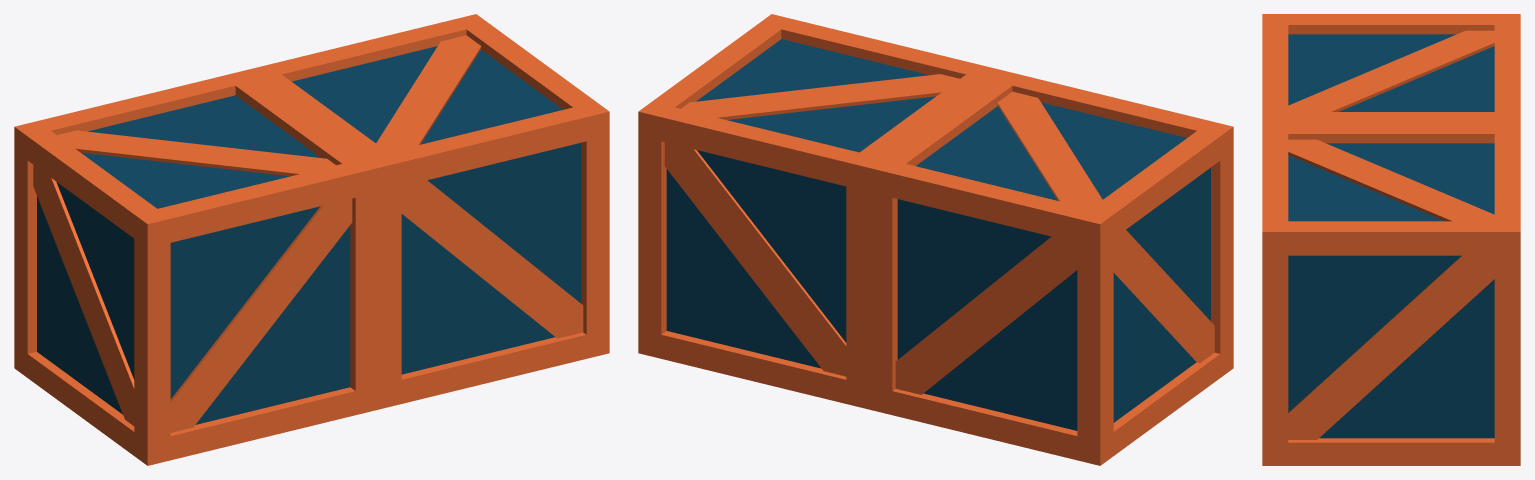
File: boxes_1.fbx
3 renders of one model, left to right at view 1: azimuth 30°, elevation 25°; view 2: azimuth 150°, elevation 25°; view 3: azimuth 270°, elevation 25°, orthographic. The views are drawn at different scales.
Visible parts, largest first — view 1: boxes_1; view 2: boxes_1; view 3: boxes_1.
Part boxes in pixels (left/top/right/bottom): boxes_1: left=14, top=14, right=609, bottom=465; boxes_1: left=638, top=14, right=1233, bottom=465; boxes_1: left=1262, top=14, right=1520, bottom=465.
Size of the model in its own units: 1.6 by 0.8 by 0.8.
